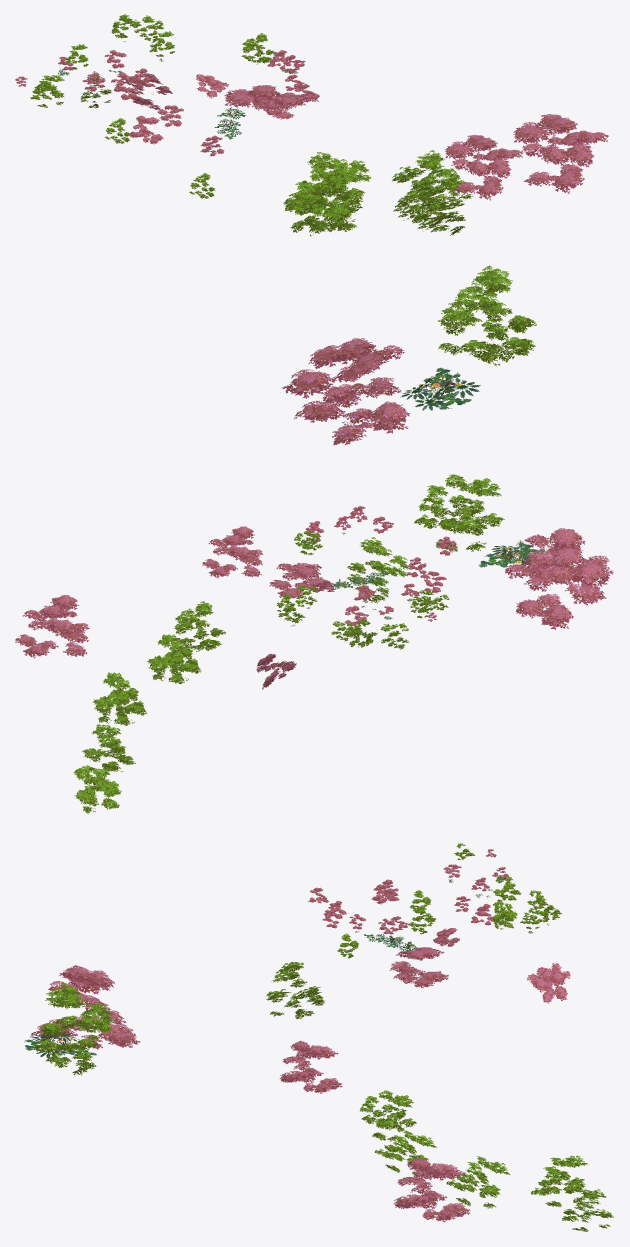
Rendered from corps_01_plant_01.FBX.
3 views of the same model, one above another, from view 1: azimuth 30°, elevation 25°; view 2: azimuth 150°, elevation 25°; view 3: azimuth 270°, elevation 25° (orthographic). The views are drawn at different scales.
Visible parts, largest first — view 1: plant01; view 2: plant01; view 3: plant01.
Part boxes in pixels (x1=…): plant01: x1=15, y1=14, x2=608, y2=445; plant01: x1=15, y1=474, x2=613, y2=813; plant01: x1=24, y1=843, x2=613, y2=1231.
Bounding box in the file's own units: 413 × 219 × 469.
1 material, 1 textured.
